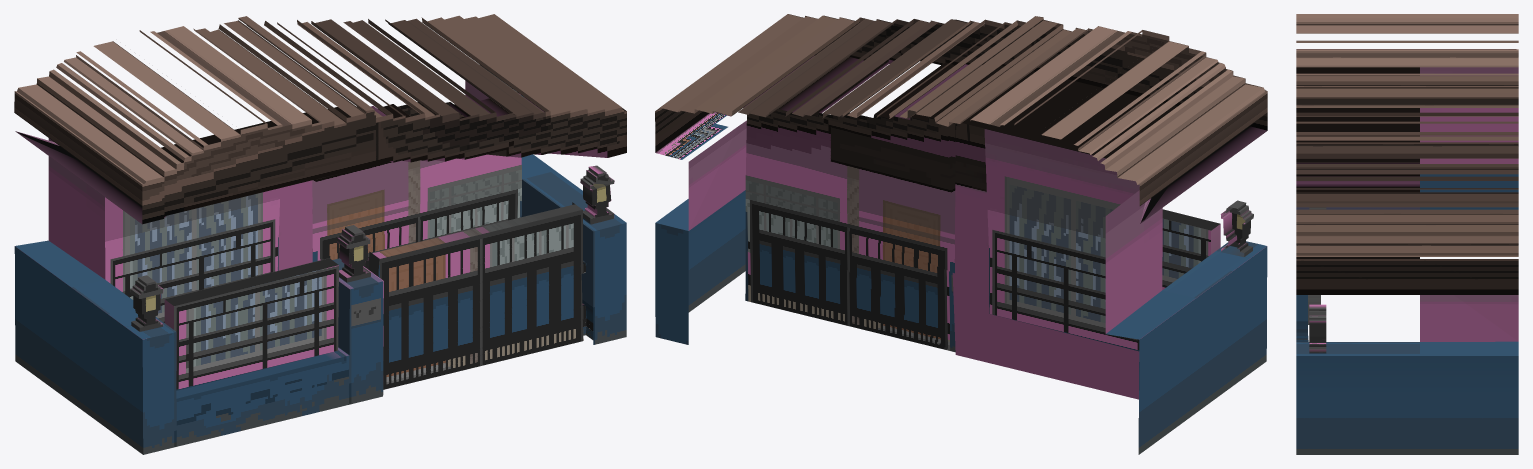
The model's file is KapitBahay.fbx.
3 views of the same model, side by side, from view 1: azimuth 30°, elevation 25°; view 2: azimuth 150°, elevation 25°; view 3: azimuth 270°, elevation 25° (orthographic). The views are drawn at different scales.
Visible parts, largest first — view 1: Plane.001; view 2: Plane.001; view 3: Plane.001.
Boxes of the visible parts, box(x1,y1,x2,y2) form: Plane.001: box(14, 14, 626, 454); Plane.001: box(655, 14, 1267, 454); Plane.001: box(1296, 14, 1518, 454).
Bounding box in the file's own units: 4256 × 2526 × 1944.
1 material, 1 textured.
